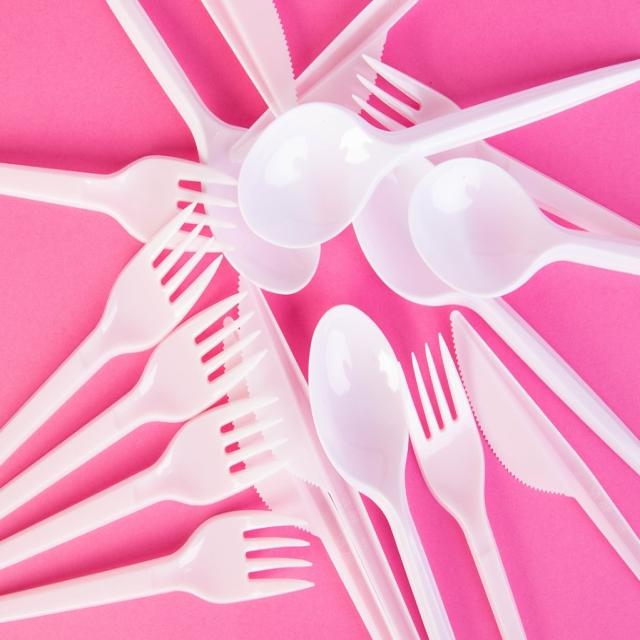Plastics: (4, 14, 640, 636)
